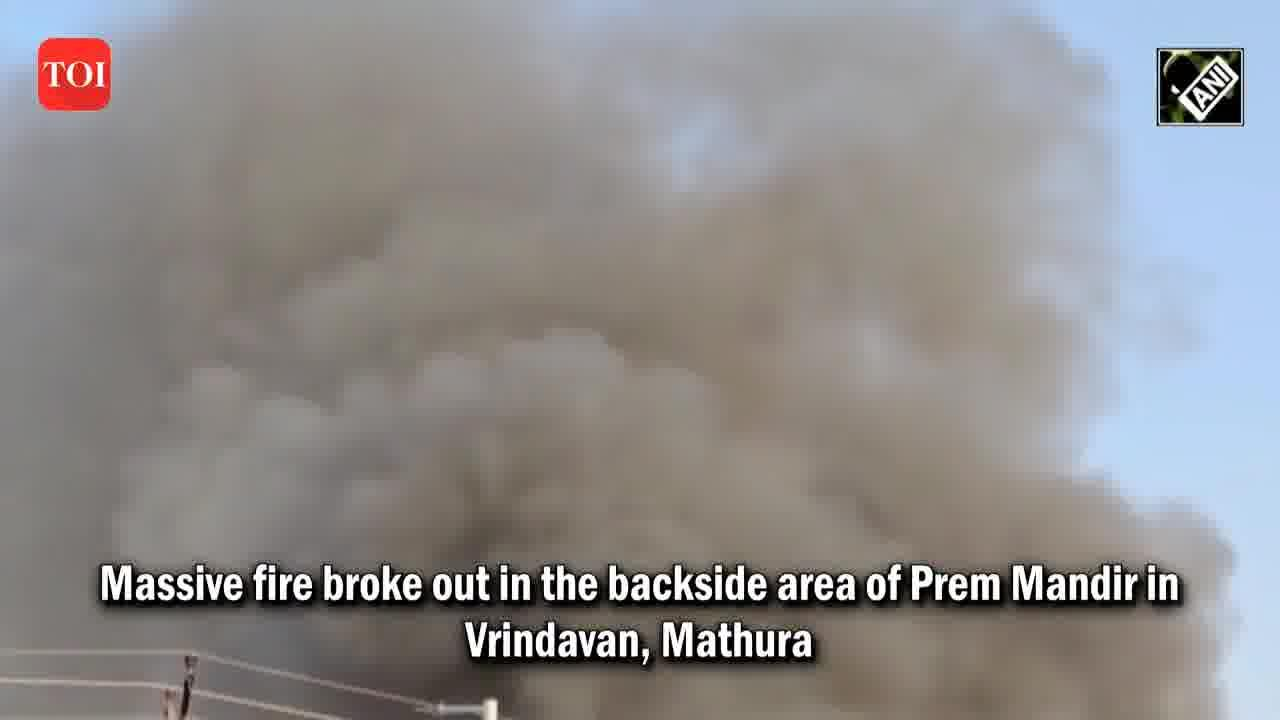smoke: (70, 167, 1049, 606)
